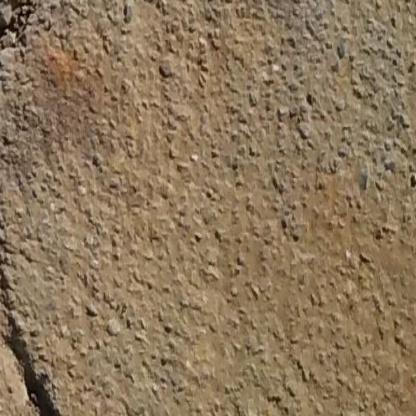Cracks: (0, 160, 66, 416), (0, 0, 52, 53)
